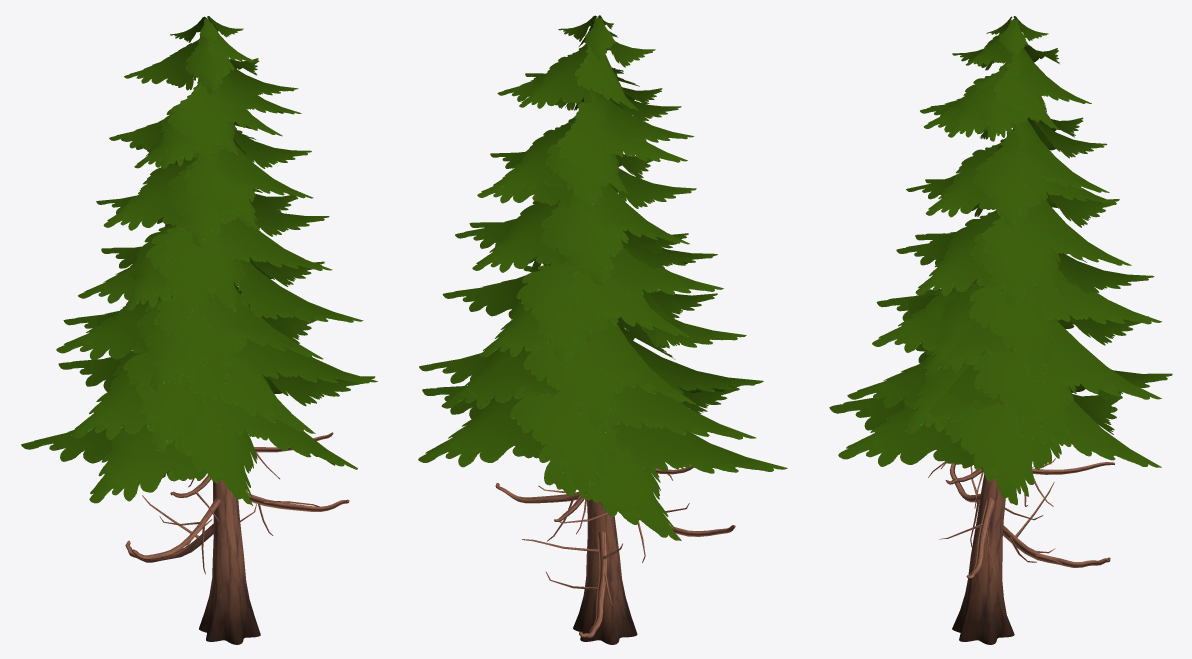
File: sn_pine_4.glb
3 renders of one model, left to right at view 1: azimuth 30°, elevation 25°; view 2: azimuth 150°, elevation 25°; view 3: azimuth 270°, elevation 25°, orthographic. The views are drawn at different scales.
Visible parts, largest first — view 1: Pine_4; view 2: Pine_4; view 3: Pine_4.
Boxes of the visible parts, left/top/right/bottom form: Pine_4: left=21, top=16, right=377, bottom=644; Pine_4: left=418, top=15, right=787, bottom=644; Pine_4: left=829, top=16, right=1172, bottom=644.
Size of the model in its own units: 5.8 by 10.24 by 5.37.
2 materials, 2 textured.
